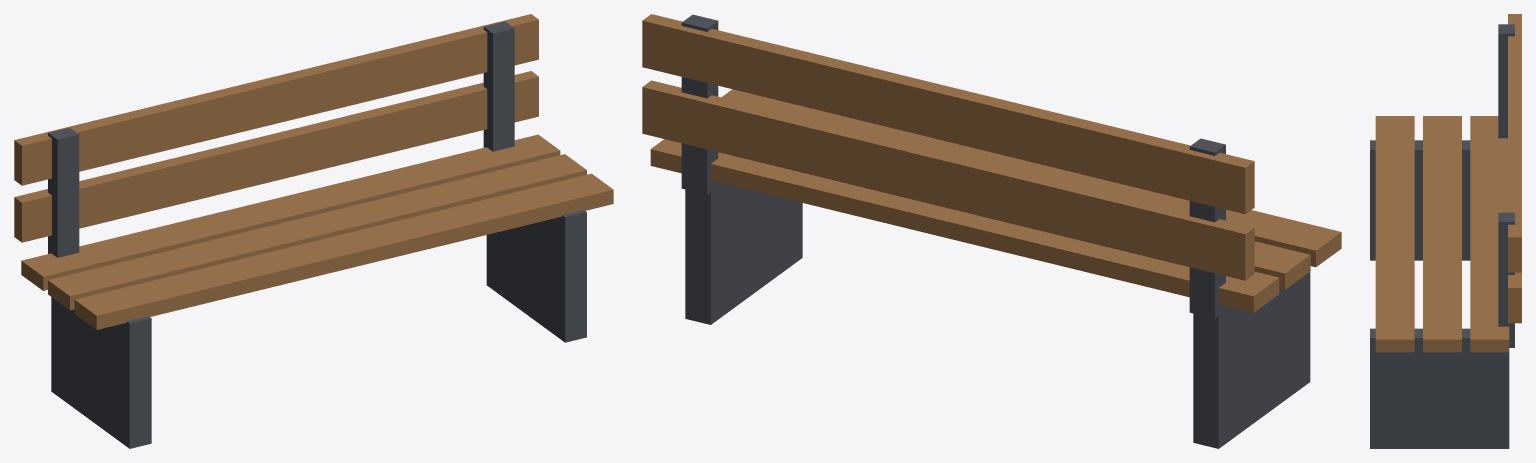
Rendered from bench.glb.
The picture shows the model from 3 angles, left to right: view 1: azimuth 30°, elevation 25°; view 2: azimuth 150°, elevation 25°; view 3: azimuth 270°, elevation 25°; orthographic projection. The views are drawn at different scales.
Visible parts, largest first — view 1: bench; view 2: bench; view 3: bench.
Part boxes in pixels (<box>): bench: <box>14,14,613,448</box>; bench: <box>642,14,1341,448</box>; bench: <box>1370,14,1521,448</box>.
Bounding box in the file's own units: 1.9 × 0.9 × 0.545.
